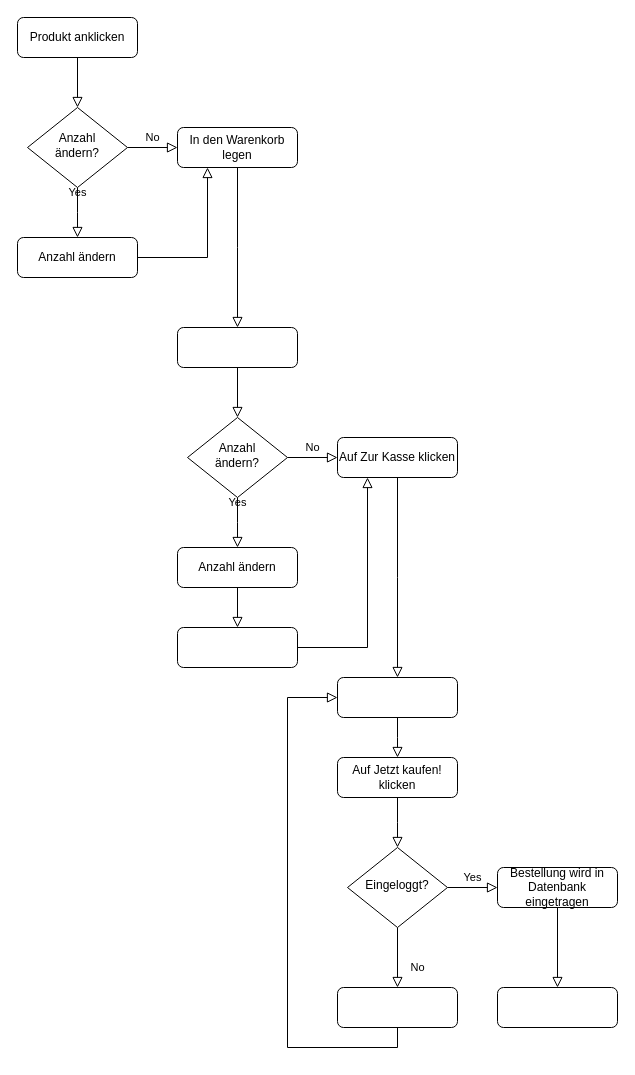
The diagram is 635 pixels wide and 1075 high, and some of its shapes have lost their labels. The centre of each missing label's shape, as x and y in pixels:
"Auf Warenkorb klicken" goes at (x=237, y=347).
"Einloggen" goes at (x=397, y=1007).
"Man wird zur Startseite weitergeleitet" goes at (x=557, y=1007).
"Warenkorb aktualisieren" goes at (x=237, y=647).
"Zahlungsmethode auswählen" goes at (x=397, y=697).
